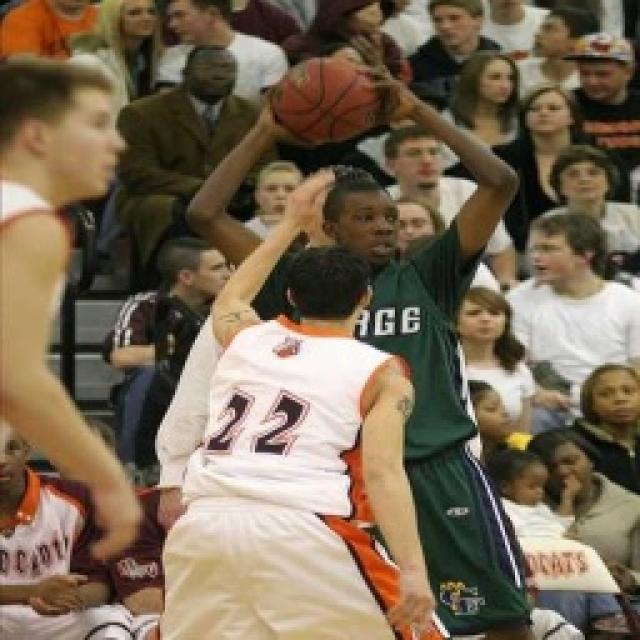rim: (268, 48, 394, 158)
